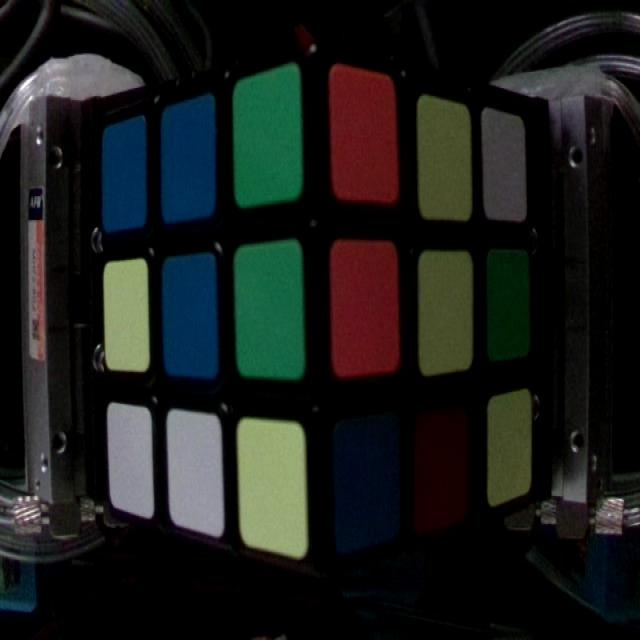b: (334, 420, 396, 547), (165, 257, 217, 380), (163, 108, 211, 223), (105, 120, 147, 227)
g: (236, 245, 301, 376), (236, 79, 298, 204), (489, 250, 529, 358)
o: (334, 69, 398, 199), (332, 242, 397, 370)
r: (419, 416, 469, 520)
w: (170, 412, 222, 533), (110, 406, 153, 518), (485, 104, 522, 217)
y: (237, 423, 304, 552), (419, 96, 473, 220), (420, 254, 473, 374), (103, 265, 149, 375), (489, 400, 531, 503)
